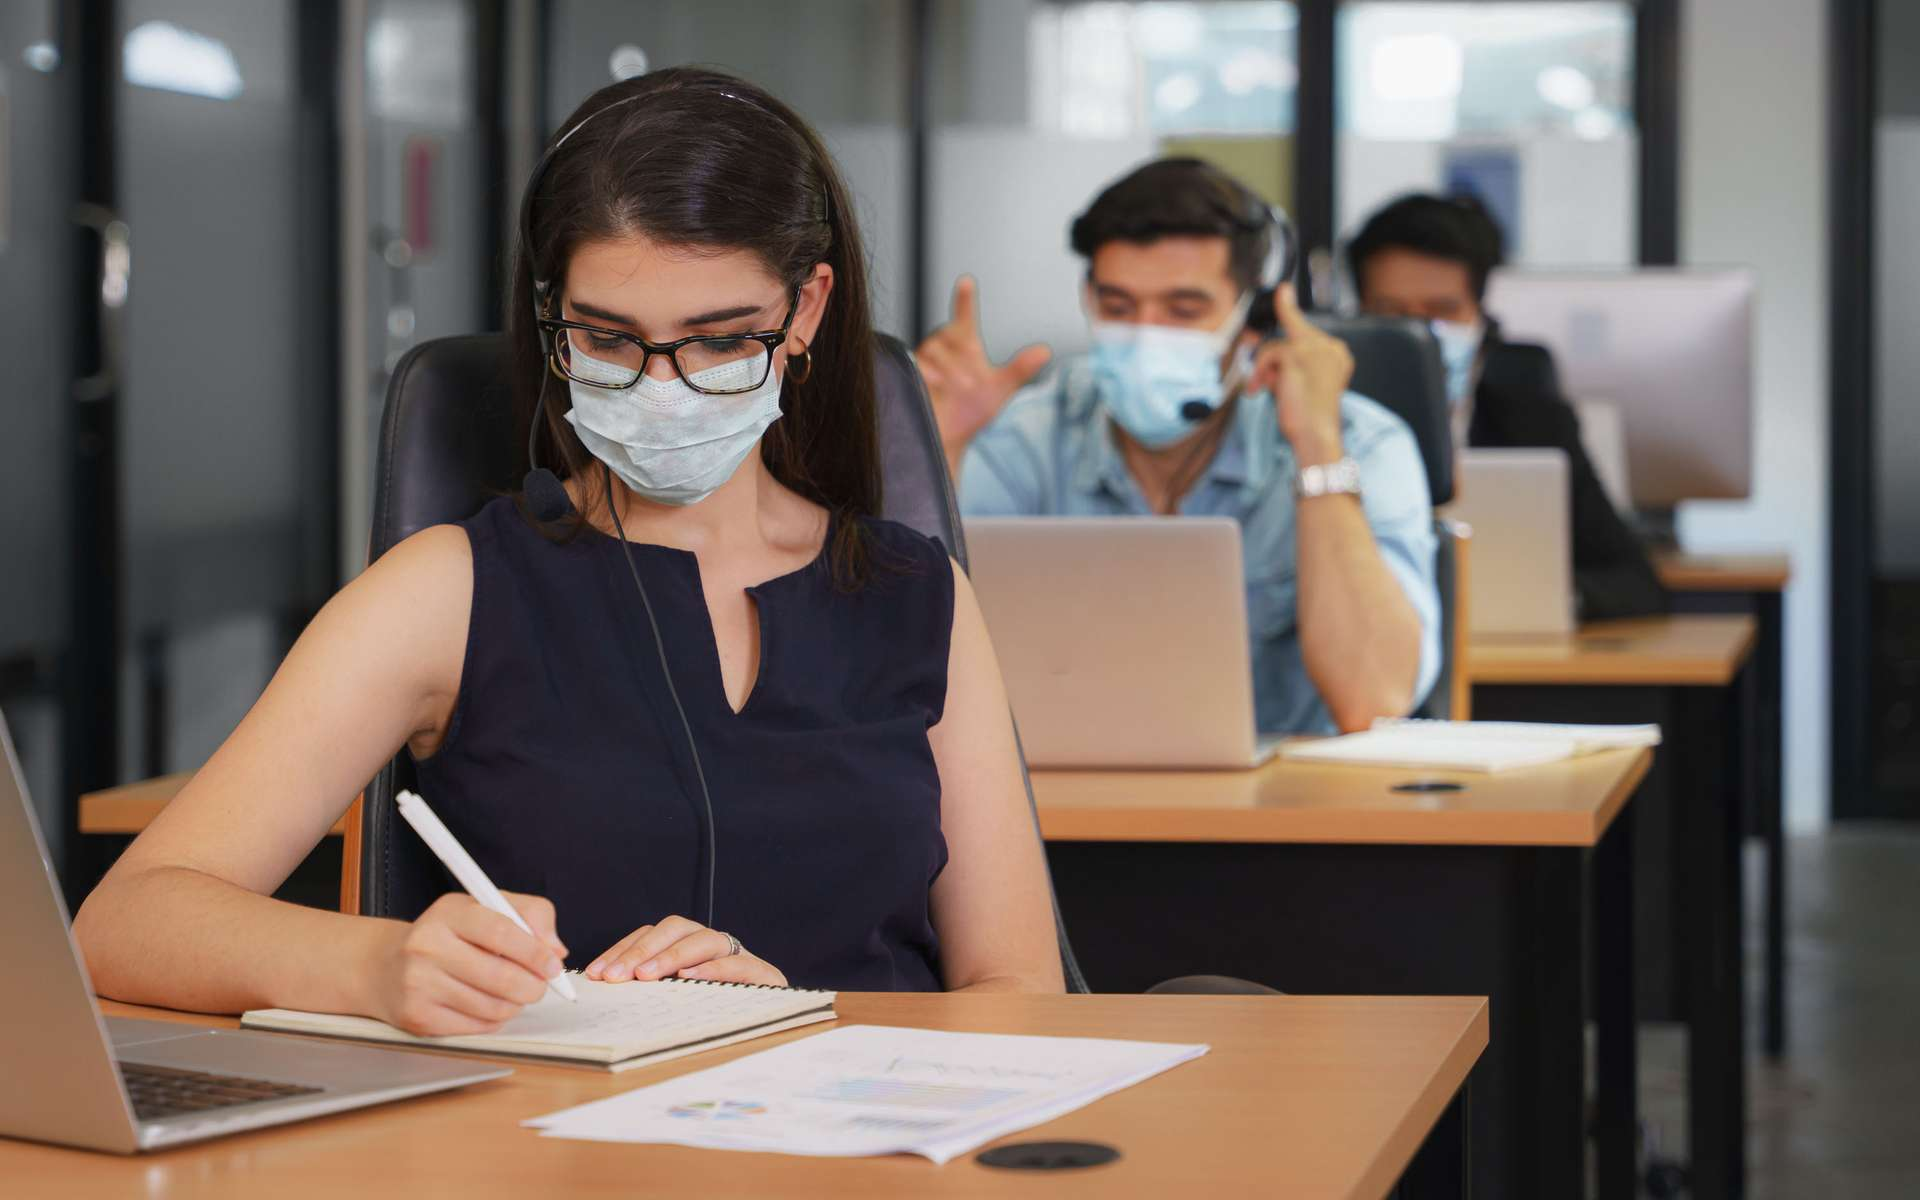with_mask: (536, 237, 822, 514), (1090, 242, 1274, 454)
